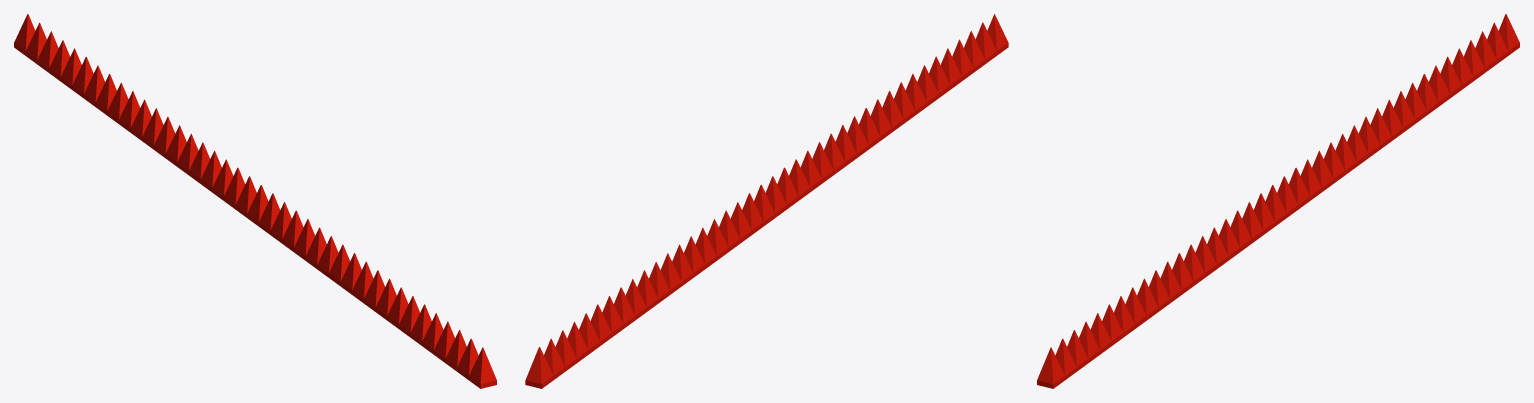
Rendered from Spikes.fbx.
The picture shows the model from 3 angles, left to right: view 1: azimuth 30°, elevation 25°; view 2: azimuth 150°, elevation 25°; view 3: azimuth 330°, elevation 25°; orthographic projection.
Visible parts, largest first — view 1: pCube1; view 2: pCube1; view 3: pCube1.
Boxes of the visible parts, x1,y1,x2,y2 form: pCube1: (14, 14, 496, 388); pCube1: (525, 14, 1008, 388); pCube1: (1037, 14, 1519, 388).
Bounding box in the file's own units: 0.761 × 1.57 × 37.49.
